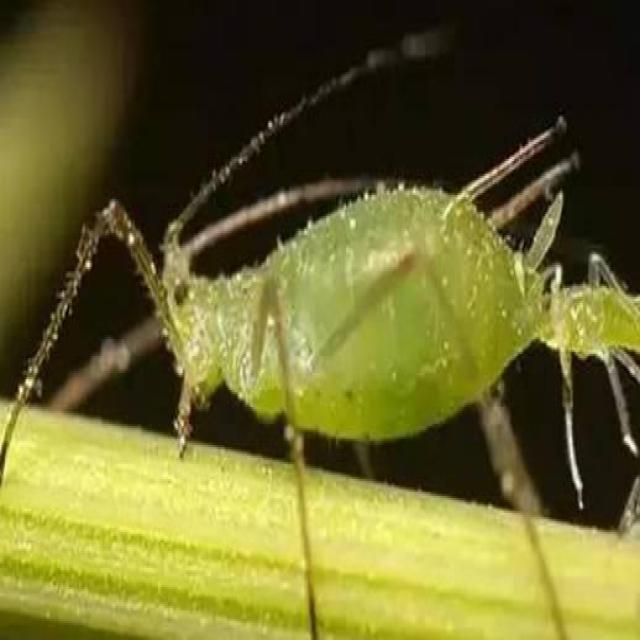Aphids: (32, 38, 566, 640)
